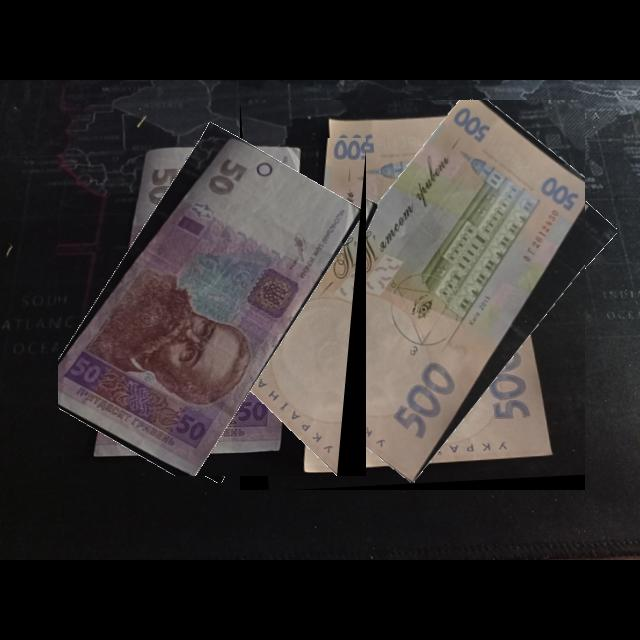500uah: (255, 100, 586, 485)
50uah: (58, 139, 362, 477)
